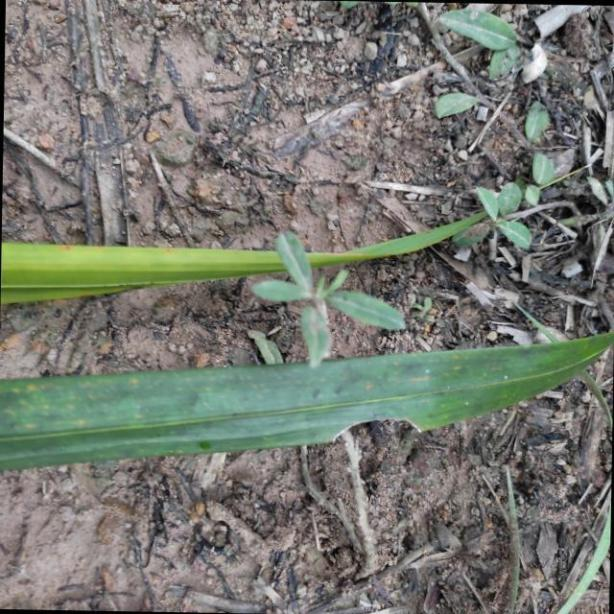nitrogen: (0, 230, 488, 304)
